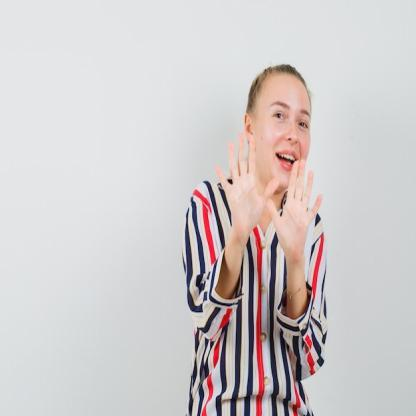stop: (214, 127, 280, 236), (266, 156, 324, 260)
